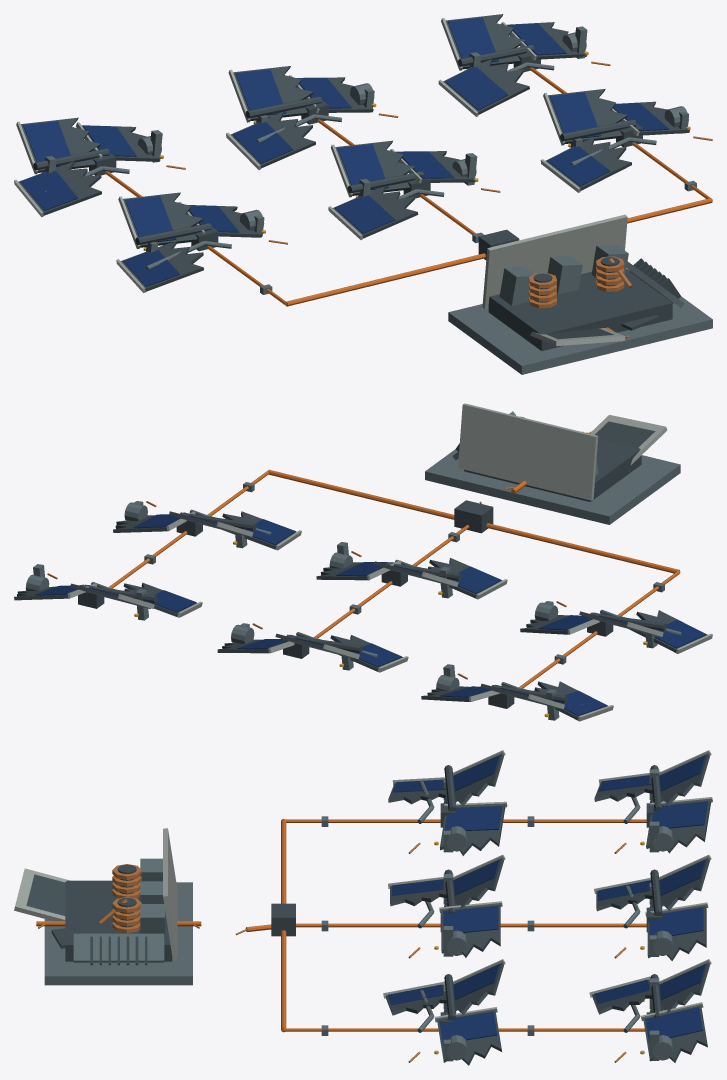
Rendered from solar_power_complex_d3.glb.
The picture shows the model from 3 angles, top to bottom: view 1: azimuth 30°, elevation 25°; view 2: azimuth 150°, elevation 25°; view 3: azimuth 270°, elevation 25°; orthographic projection. The views are drawn at different scales.
Visible parts, largest first — view 1: SOLAR_GAME_MESH; view 2: SOLAR_GAME_MESH; view 3: SOLAR_GAME_MESH.
Part boxes in pixels (left/top/right/bottom): SOLAR_GAME_MESH: left=14, top=14, right=712, bottom=374; SOLAR_GAME_MESH: left=14, top=403, right=712, bottom=721; SOLAR_GAME_MESH: left=14, top=750, right=712, bottom=1065.
Size of the model in its own units: 16.39 by 2.04 by 16.97.
